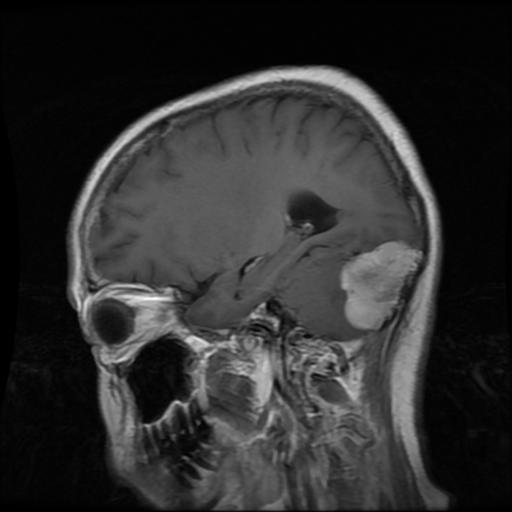Menigiomia_tumour: (339, 239, 422, 329)
